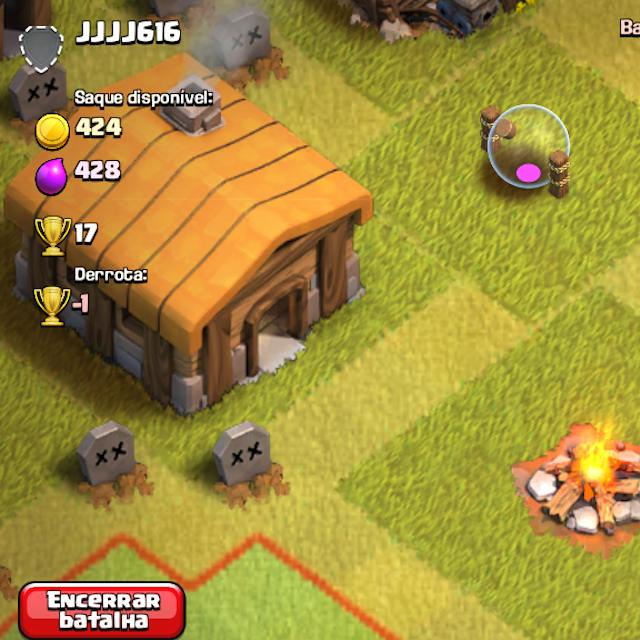ValueCoin: (74, 112, 127, 146)
ValueElixir: (73, 153, 130, 189)
